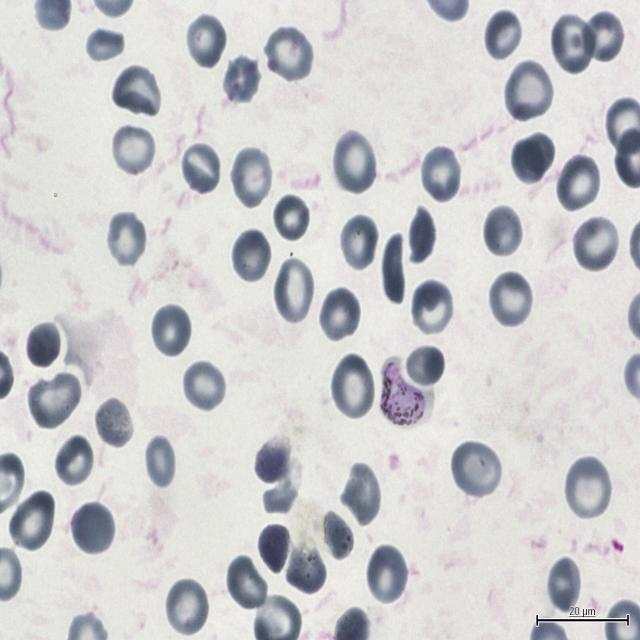gametocyte: (378, 355, 434, 430)
red blood cell: (503, 58, 554, 125), (564, 455, 612, 523), (329, 353, 376, 422), (451, 439, 503, 501), (26, 373, 82, 429), (9, 488, 56, 554), (332, 130, 378, 196), (272, 257, 316, 326), (163, 576, 210, 640), (550, 12, 597, 76), (264, 24, 314, 83), (572, 213, 620, 274), (110, 62, 163, 117), (488, 268, 535, 330), (68, 499, 118, 557), (230, 145, 274, 210), (556, 152, 602, 214), (409, 277, 455, 339), (339, 464, 383, 528), (317, 284, 363, 345), (365, 543, 409, 606), (419, 143, 464, 204), (224, 554, 270, 612), (283, 538, 328, 596), (104, 209, 148, 268), (181, 358, 227, 414), (111, 122, 156, 178), (184, 12, 227, 70), (150, 302, 193, 360), (581, 8, 625, 64), (338, 212, 379, 272), (179, 141, 222, 197), (482, 203, 524, 260), (545, 555, 584, 615), (231, 228, 272, 285), (94, 395, 136, 450), (54, 433, 95, 489), (483, 8, 523, 62), (24, 319, 64, 371), (405, 205, 438, 268), (221, 55, 261, 106), (253, 435, 293, 485), (270, 195, 312, 241), (143, 434, 178, 489), (380, 230, 406, 304), (405, 345, 445, 391), (258, 523, 290, 574), (322, 510, 354, 561), (84, 27, 125, 66), (512, 139, 546, 185), (523, 134, 555, 173)
